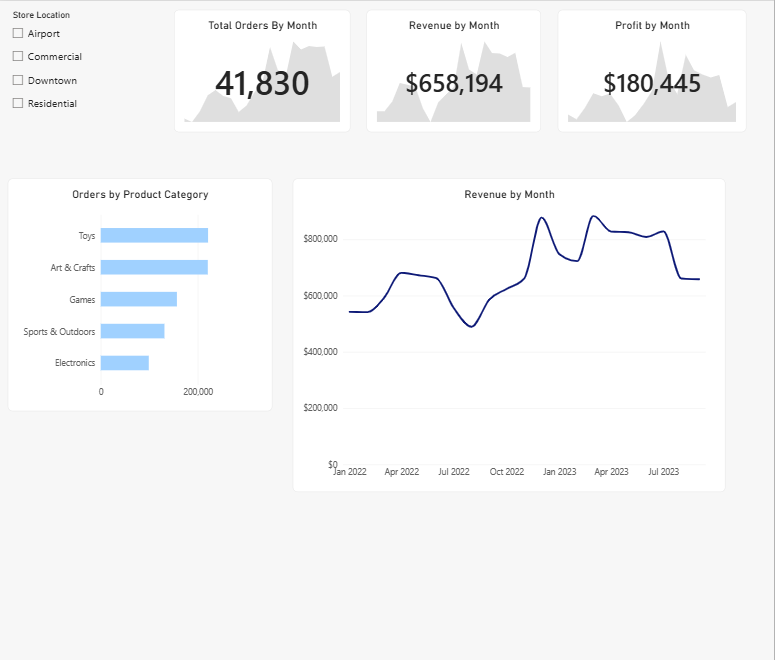

Layout of this report page (visuals, bound fields, positions):
{"tool":"powerbi","page":{"name":"Page 1","canvas":[1920,1080],"ordinal":0},"visuals":[{"type":"kpi","title":"Total Orders By Month","fields":{"Indicator":["sales.Total Orders"],"TrendLine":["calendar.Start of Month"]},"box":[285.7,14.3,288.3,200],"z":0},{"type":"kpi","title":"Revenue by Month","fields":{"Indicator":["sales.Revenue (M)"],"TrendLine":["calendar.Start of Month"]},"box":[600.6,14.3,285,200],"z":1000},{"type":"kpi","title":"Profit by Month","fields":{"Indicator":["sales.Profit (M)"],"TrendLine":["calendar.Start of Month"]},"box":[912.2,14.3,308.3,200],"z":2000},{"type":"slicer","fields":{"Values":["stores.Store_Location"]},"box":[14.3,14.3,232.7,200],"z":3000},{"type":"clusteredBarChart","title":"Orders by Product Category","fields":{"Category":["products.Product_Category"],"Y":["sales.Total Orders"]},"box":[14.3,289.8,431.7,380],"z":4000},{"type":"lineChart","title":"Revenue by Month","fields":{"Category":["calendar.Start of Month Hierarchy.Start of Month","calendar.Start of Month Hierarchy.Start of Week","calendar.Start of Month Hierarchy.Date"],"Y":["sales.Revenue (M)"]},"box":[479.6,289.8,706.7,511.7],"z":5000}]}

Visuals, with their boxes on the page's 1920x1080 design canvas (x1, y1, x2, y2). These are canvas units, not pixel positions in the 775x660 screenshot, which may show the page scaled, cropped or inside an application window:
"Total Orders By Month" kpi: bbox(286, 14, 574, 214)
"Revenue by Month" kpi: bbox(601, 14, 886, 214)
"Profit by Month" kpi: bbox(912, 14, 1220, 214)
slicer - stores.Store_Location: bbox(14, 14, 247, 214)
"Orders by Product Category" clusteredBarChart: bbox(14, 290, 446, 670)
"Revenue by Month" lineChart: bbox(480, 290, 1186, 802)
